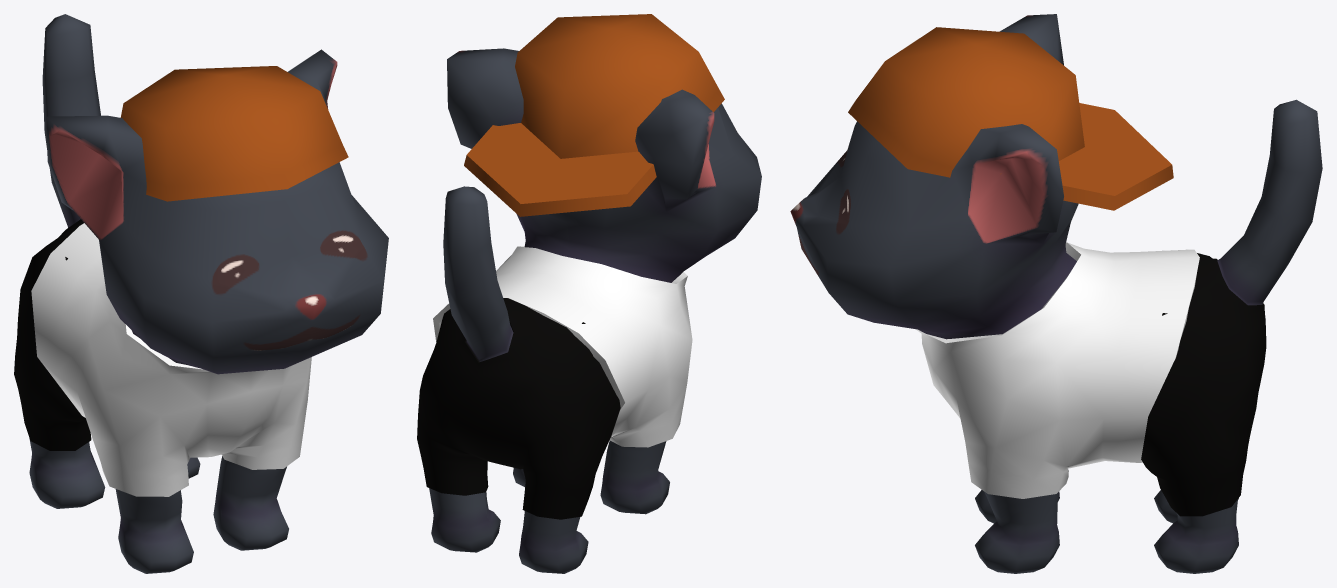
The model's file is Dancer Cat03.fbx.
The picture shows the model from 3 angles, left to right: view 1: azimuth 30°, elevation 25°; view 2: azimuth 150°, elevation 25°; view 3: azimuth 270°, elevation 25°; orthographic projection. The views are drawn at different scales.
Parts seen in each view (by area): view 1: Cat_Base002, Dancer_Cat_Shirt, Dancer_Cat_Hat, Dancer_Cat_Shorts; view 2: Cat_Base002, Dancer_Cat_Hat, Dancer_Cat_Shorts, Dancer_Cat_Shirt; view 3: Cat_Base002, Dancer_Cat_Shirt, Dancer_Cat_Hat, Dancer_Cat_Shorts.
Part boxes in pixels (<box>): Cat_Base002: <box>29,14,388,573</box>; Dancer_Cat_Shirt: <box>31,223,311,496</box>; Dancer_Cat_Hat: <box>120,66,348,201</box>; Dancer_Cat_Shorts: <box>14,219,91,450</box>; Cat_Base002: <box>429,48,761,573</box>; Dancer_Cat_Hat: <box>464,14,724,216</box>; Dancer_Cat_Shorts: <box>417,298,620,519</box>; Dancer_Cat_Shirt: <box>433,246,692,447</box>; Cat_Base002: <box>790,14,1322,573</box>; Dancer_Cat_Shirt: <box>916,242,1199,498</box>; Dancer_Cat_Hat: <box>848,27,1173,210</box>; Dancer_Cat_Shorts: <box>1141,253,1266,516</box>.
Size of the model in its own units: 1.75 by 2.83 by 2.9.
4 materials, 1 textured.
